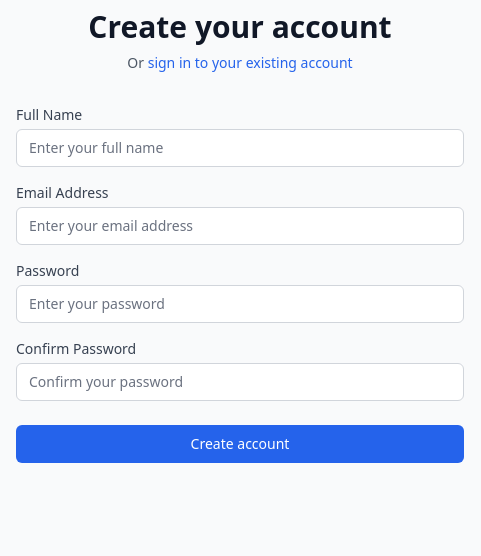
Test: RegisterForm › should show error message on registration failure
In the field with placeholder "Enter your full name": (240, 148) [16,129,464,167], type "Test User"
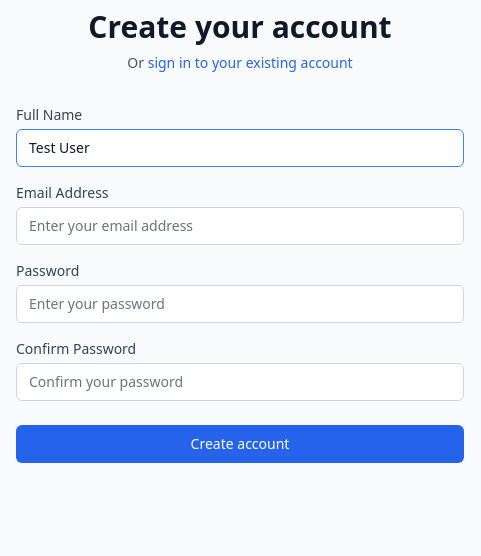
In the field with placeholder "Enter your email address": (240, 226) [16,207,464,245], type "existing@example.com"
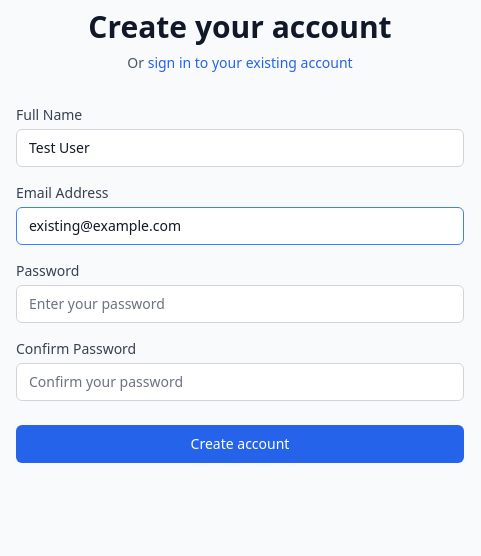
In the password field with placeholder "Enter your password": (240, 304) [16,285,464,323], type "password123"
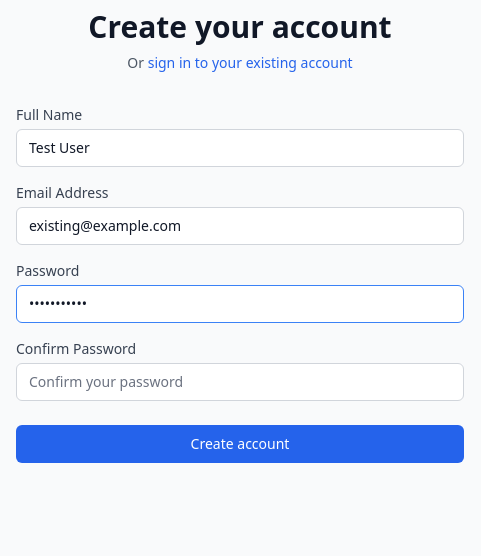
In the password field with placeholder "Confirm your password": (240, 382) [16,363,464,401], type "password123"
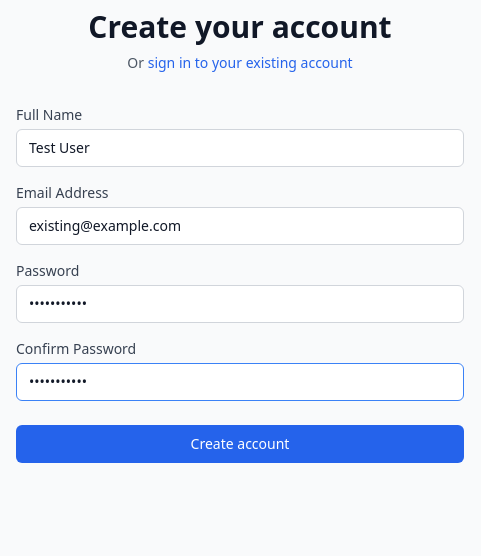
Click the button "Create account": (240, 444) [16,425,464,463]
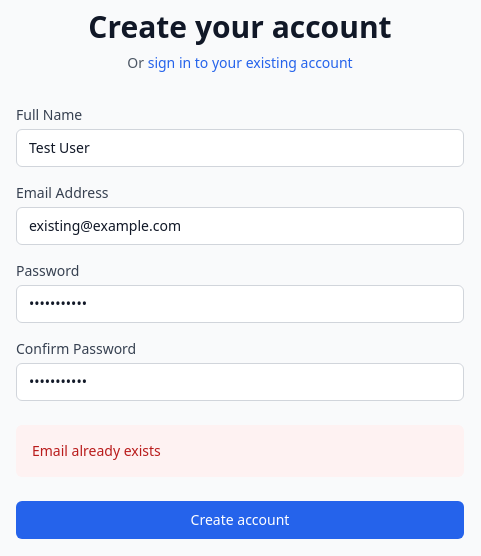
Check: the text "Email already exists" is shown, box [32,441,161,460]
